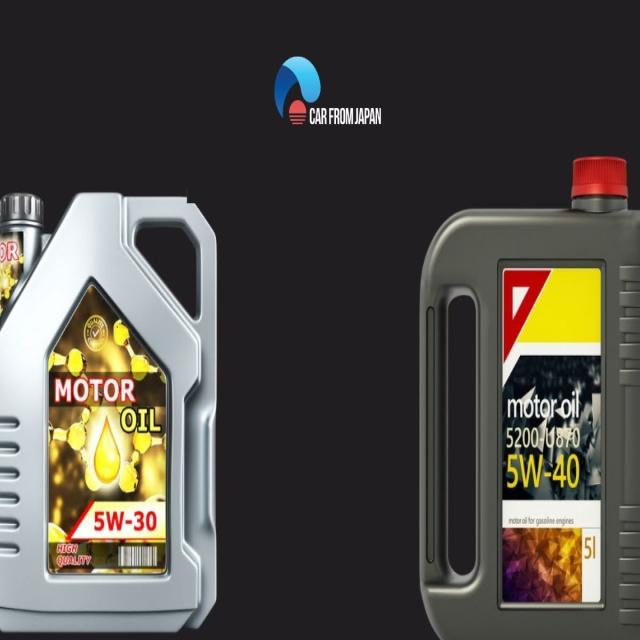motor_oil: (412, 151, 639, 640), (0, 188, 223, 640)
